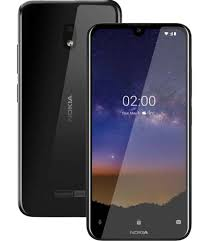nokia: (85, 22, 191, 241)
